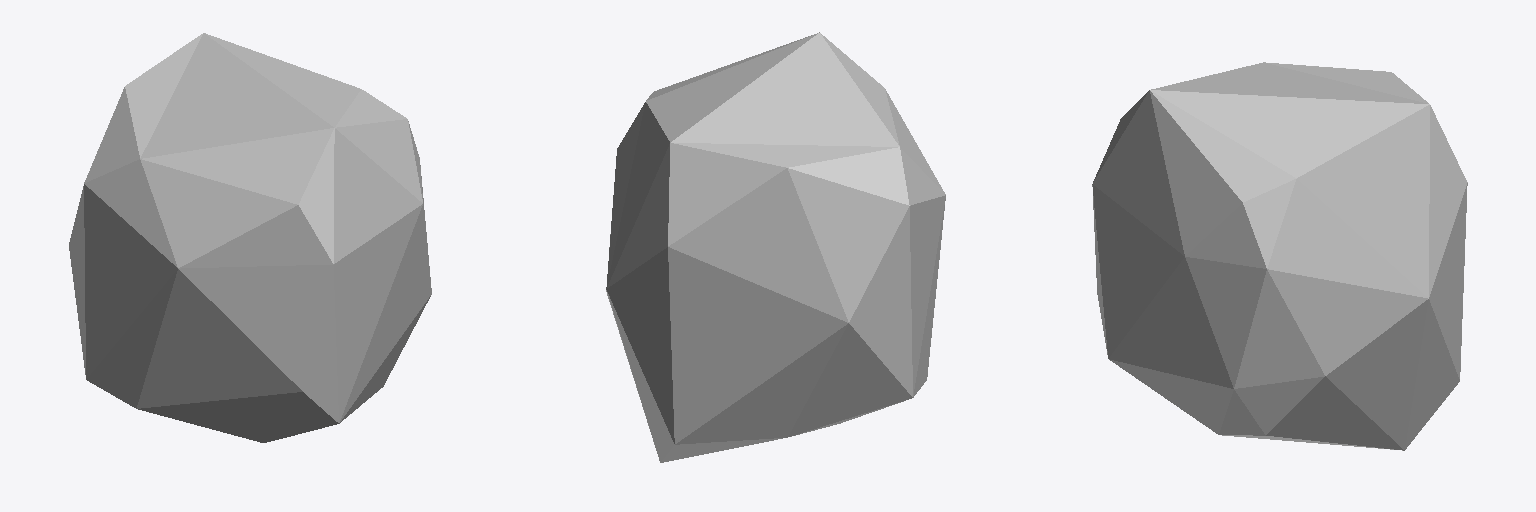
Rendered from Cloud1.obj.
3 renders of one model, left to right at view 1: azimuth 30°, elevation 25°; view 2: azimuth 150°, elevation 25°; view 3: azimuth 270°, elevation 25°, orthographic.
Visible parts, largest first — view 1: Cloud1_Object_90_Object_43.001; view 2: Cloud1_Object_90_Object_43.001; view 3: Cloud1_Object_90_Object_43.001.
Boxes of the visible parts, x1=… form: Cloud1_Object_90_Object_43.001: x1=69, y1=33, x2=431, y2=442; Cloud1_Object_90_Object_43.001: x1=606, y1=32, x2=945, y2=462; Cloud1_Object_90_Object_43.001: x1=1092, y1=62, x2=1467, y2=450.
Size of the model in its own units: 1.06 by 1.11 by 1.1.